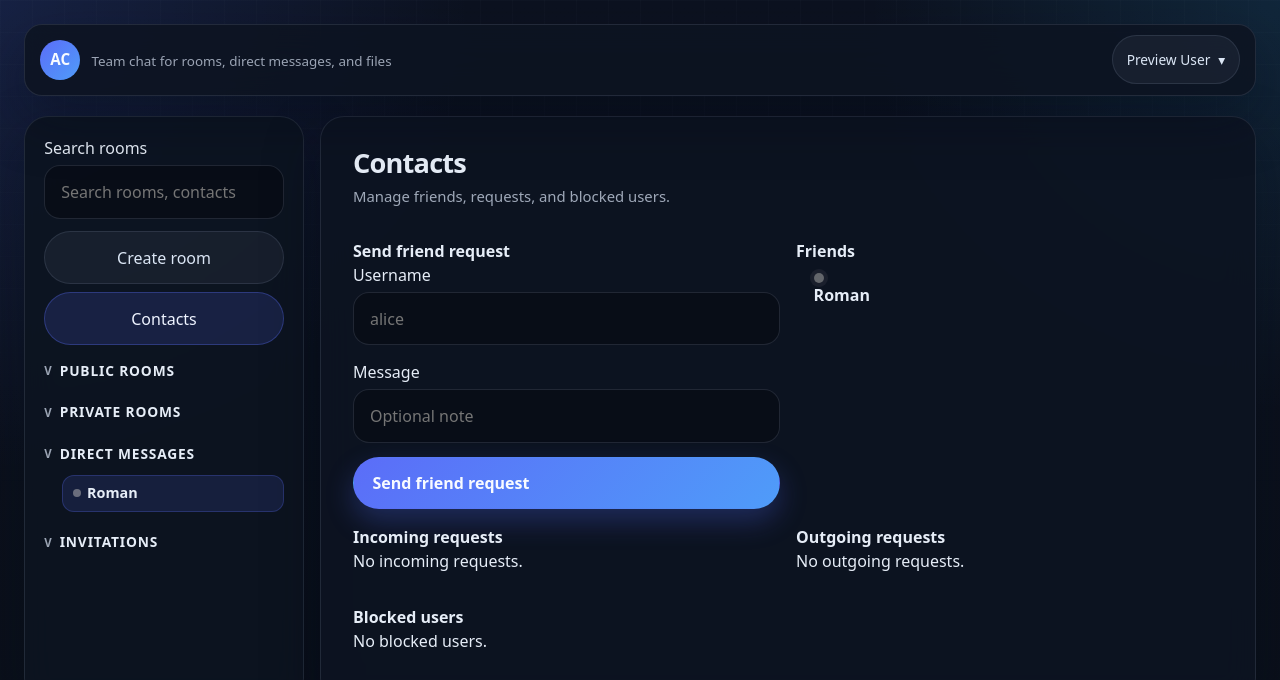
it: Message lifecycle › refreshes an open direct message when the counterpart account becomes deleted
Click the button "Roman" below "Search rooms": (173,493) [62, 474, 284, 512]
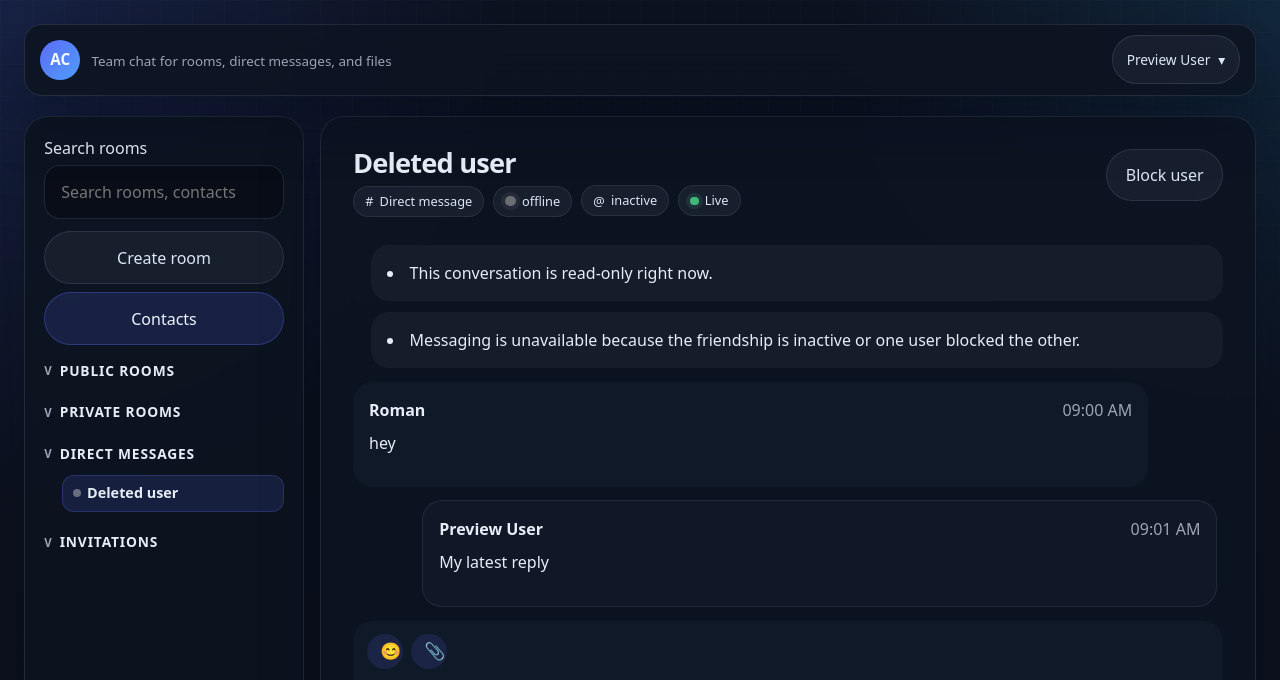
expect the text "hey" is shown: met, box [369, 432, 396, 454]
expect the heading "Deleted user" is shown: met, box [353, 144, 516, 181]
